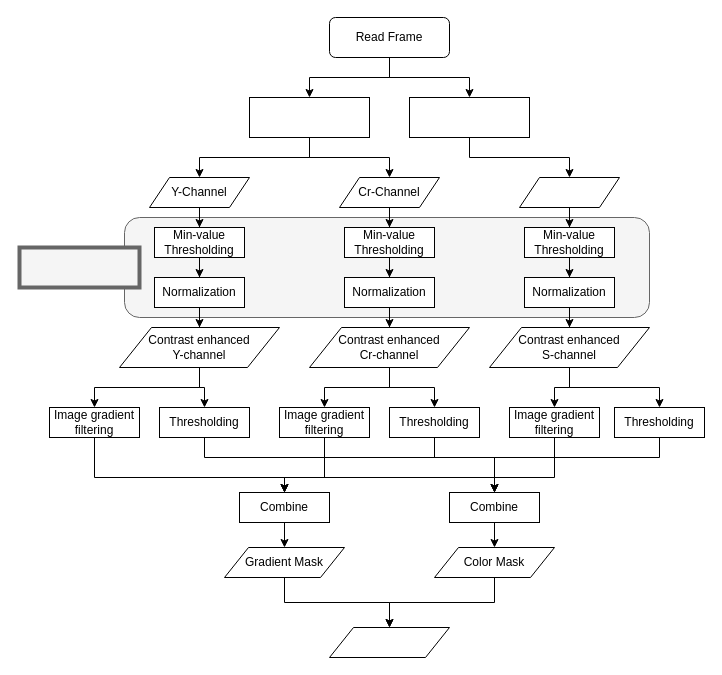
Some shapes in this 722 by 675 pixel diagram are drawn without their labels. The centre of each missing label's shape, as x and y in pixels:
"Contrast Enhancement" belongs at (x=79, y=267).
"Converting image (BGR -> HLS)" belongs at (x=469, y=117).
"Converting image (BGR -> YCrCb)" belongs at (x=309, y=117).
"Preprocessed mask" belongs at (x=389, y=642).
"S-Channel" belongs at (x=569, y=192).
